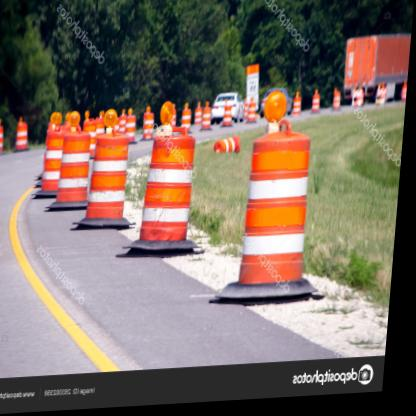obstacle: (235, 118, 326, 295), (142, 138, 201, 249), (85, 132, 135, 225), (55, 129, 97, 207)
